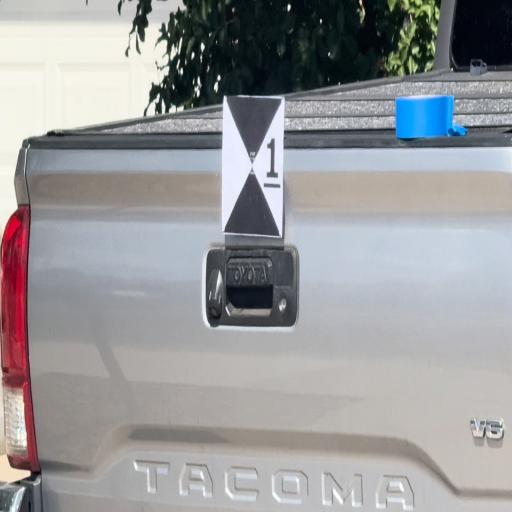target1: (223, 94, 283, 239)
